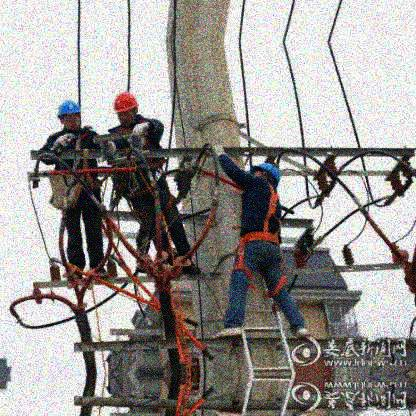helmet: (113, 93, 142, 126), (56, 98, 83, 131), (250, 161, 279, 186)
